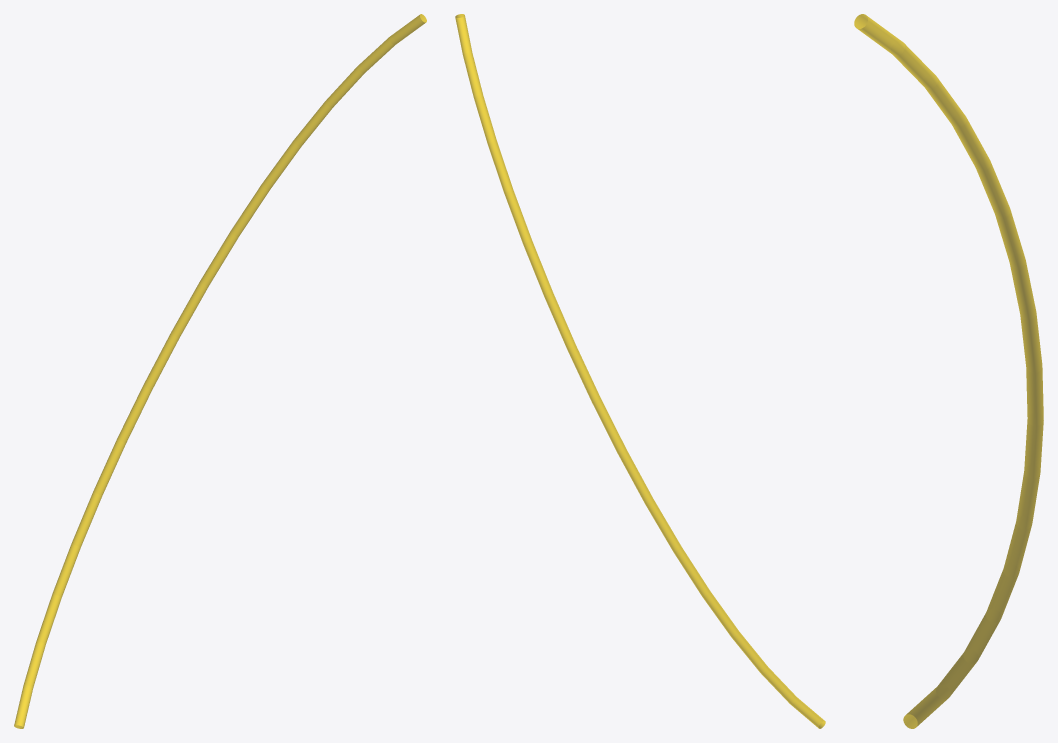
The model's file is Event_100608114_track_27.fbx.
The picture shows the model from 3 angles, left to right: view 1: azimuth 30°, elevation 25°; view 2: azimuth 150°, elevation 25°; view 3: azimuth 270°, elevation 25°; orthographic projection. The views are drawn at different scales.
Parts seen in each view (by area): view 1: Model; view 2: Model; view 3: Model.
Boxes of the visible parts, left/top/right/bottom form: Model: left=14, top=14, right=426, bottom=728; Model: left=455, top=14, right=825, bottom=728; Model: left=854, top=14, right=1043, bottom=728.
Size of the model in its own units: 1.8 by 2.74 by 0.4628.
